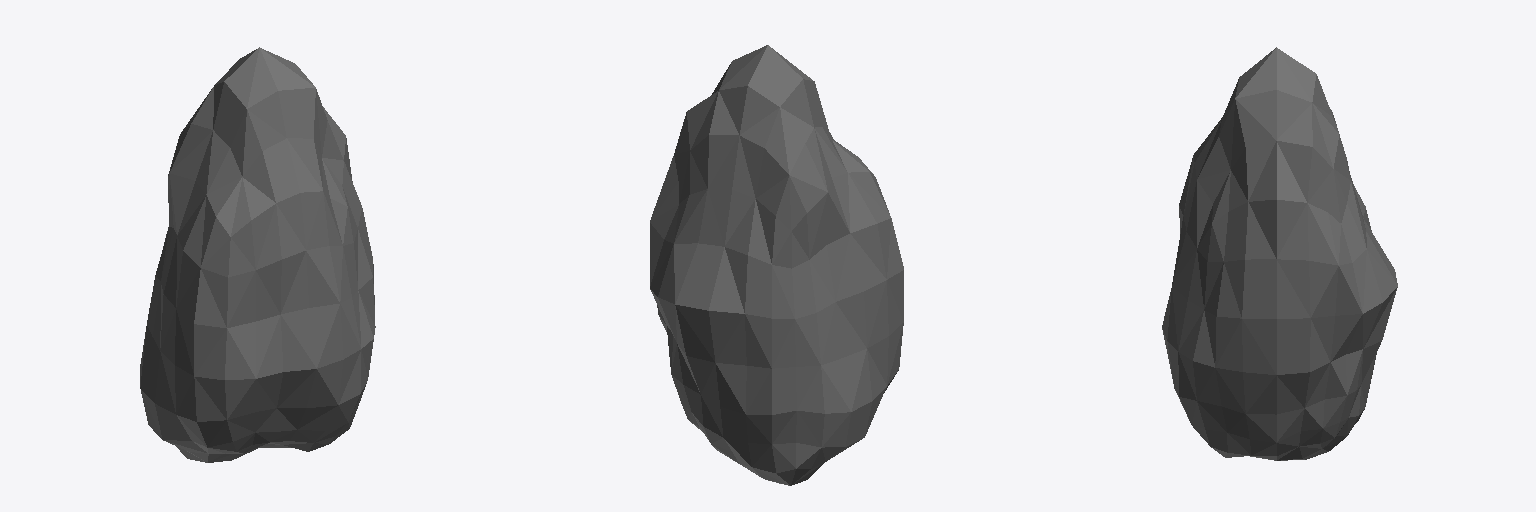
File: boulder.obj
3 renders of one model, left to right at view 1: azimuth 30°, elevation 25°; view 2: azimuth 150°, elevation 25°; view 3: azimuth 270°, elevation 25°, orthographic.
Parts seen in each view (by area): view 1: Stone_F_3_LOD1; view 2: Stone_F_3_LOD1; view 3: Stone_F_3_LOD1.
Boxes of the visible parts, x1=… form: Stone_F_3_LOD1: x1=140, y1=47, x2=375, y2=462; Stone_F_3_LOD1: x1=650, y1=45, x2=903, y2=485; Stone_F_3_LOD1: x1=1162, y1=47, x2=1397, y2=460.
Bounding box in the file's own units: 10.18 × 19.8 × 10.11.